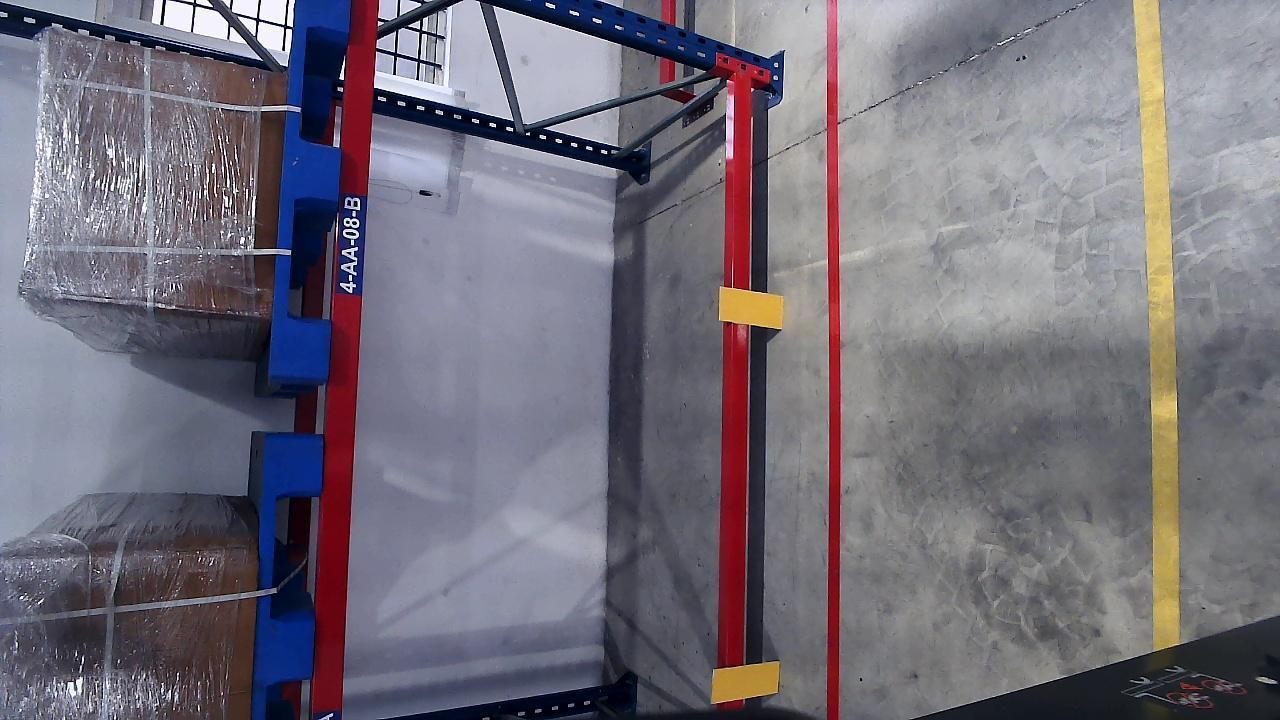red_line: (822, 0, 844, 718)
yellow_line: (1135, 0, 1181, 644)
